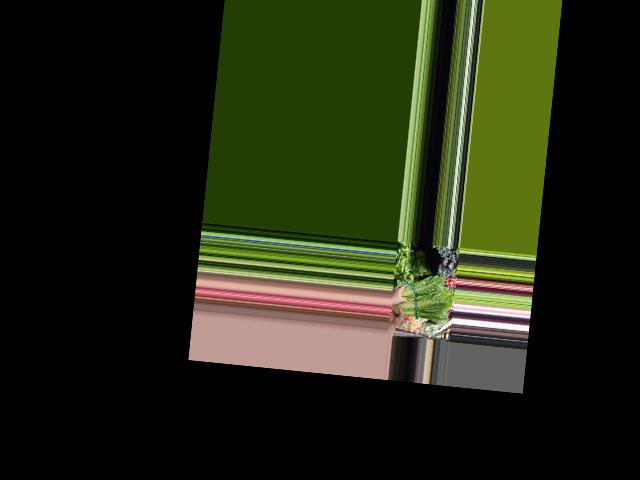lettuce: (388, 270, 452, 323)
